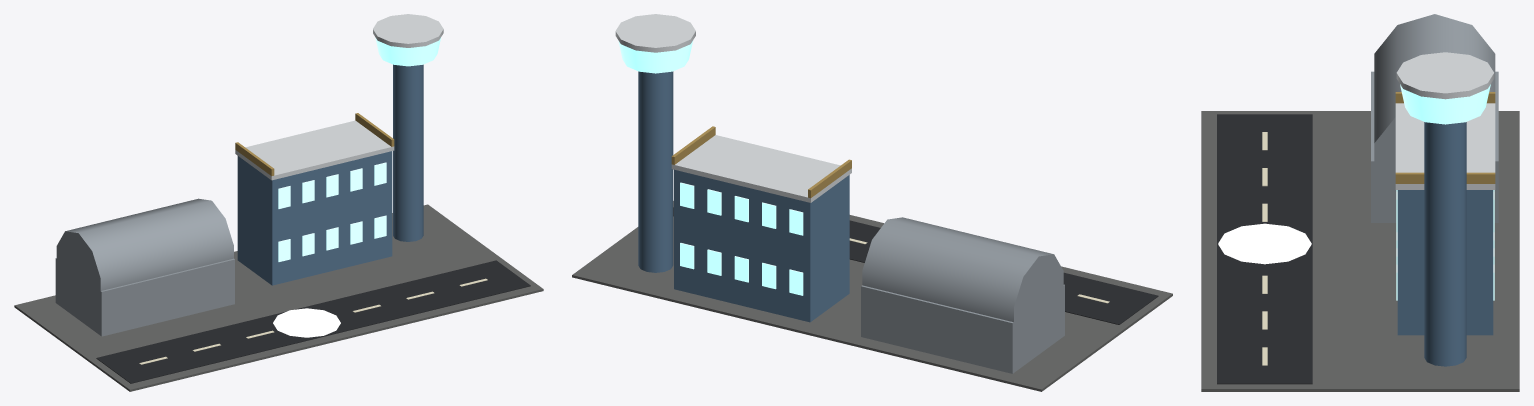
The model's file is bld_special_airport_a10.glb.
3 views of the same model, side by side, from view 1: azimuth 30°, elevation 25°; view 2: azimuth 150°, elevation 25°; view 3: azimuth 270°, elevation 25° (orthographic). The views are drawn at different scales.
Parts seen in each view (by area): view 1: body; view 2: body; view 3: body.
Boxes of the visible parts, x1,y1,x2,y2 form: body: (14,14,543,391); body: (572,14,1172,391); body: (1201,14,1519,391).
Size of what is drawn, in the model's own units: 31 by 14.95 by 15.
